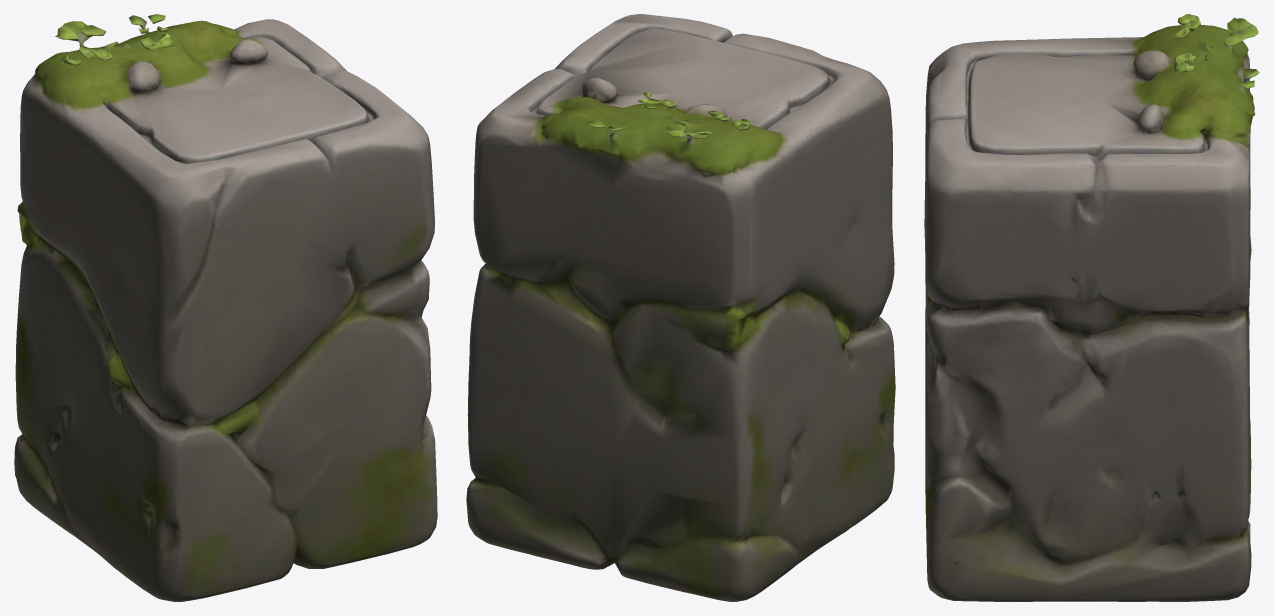
File: pillar7.glb
3 views of the same model, side by side, from view 1: azimuth 30°, elevation 25°; view 2: azimuth 150°, elevation 25°; view 3: azimuth 270°, elevation 25° (orthographic). The views are drawn at different scales.
Parts seen in each view (by area): view 1: world; view 2: world; view 3: world.
Part boxes in pixels (x1=…): world: x1=14, y1=14, x2=437, y2=601; world: x1=466, y1=14, x2=895, y2=601; world: x1=924, y1=14, x2=1259, y2=601.
Bounding box in the file's own units: 0.6348 × 0.9942 × 0.6373.
Materials: 1 (1 with a texture image).
